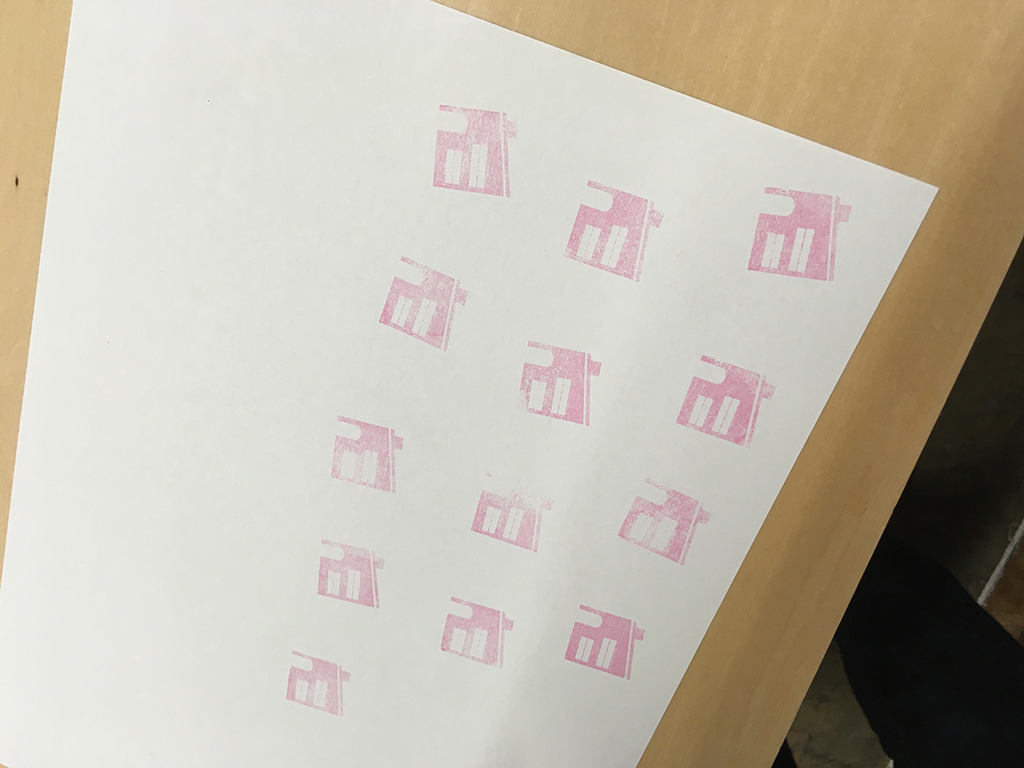house: (656, 342, 789, 455), (554, 169, 669, 291), (366, 247, 483, 358), (744, 177, 857, 291), (613, 470, 720, 575), (427, 88, 522, 206), (507, 332, 607, 432), (323, 408, 417, 505), (466, 463, 560, 556), (561, 600, 651, 690), (430, 591, 526, 672), (273, 642, 366, 720), (314, 533, 390, 613)
